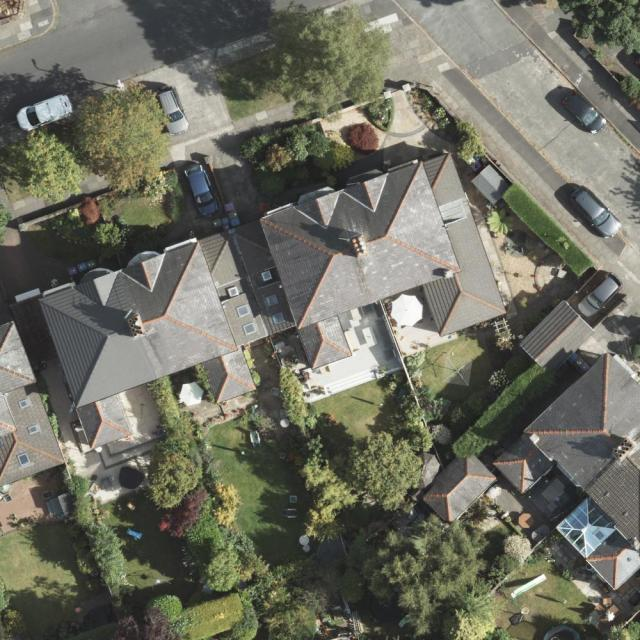roof: (0, 151, 507, 488), (493, 350, 640, 592), (408, 446, 500, 527), (520, 299, 597, 376)
skylight: (556, 496, 620, 559), (15, 449, 32, 467), (240, 322, 258, 336), (270, 311, 286, 325), (25, 422, 41, 435), (236, 304, 250, 318), (227, 284, 241, 297), (17, 398, 33, 409), (265, 294, 277, 308), (261, 270, 273, 280)
